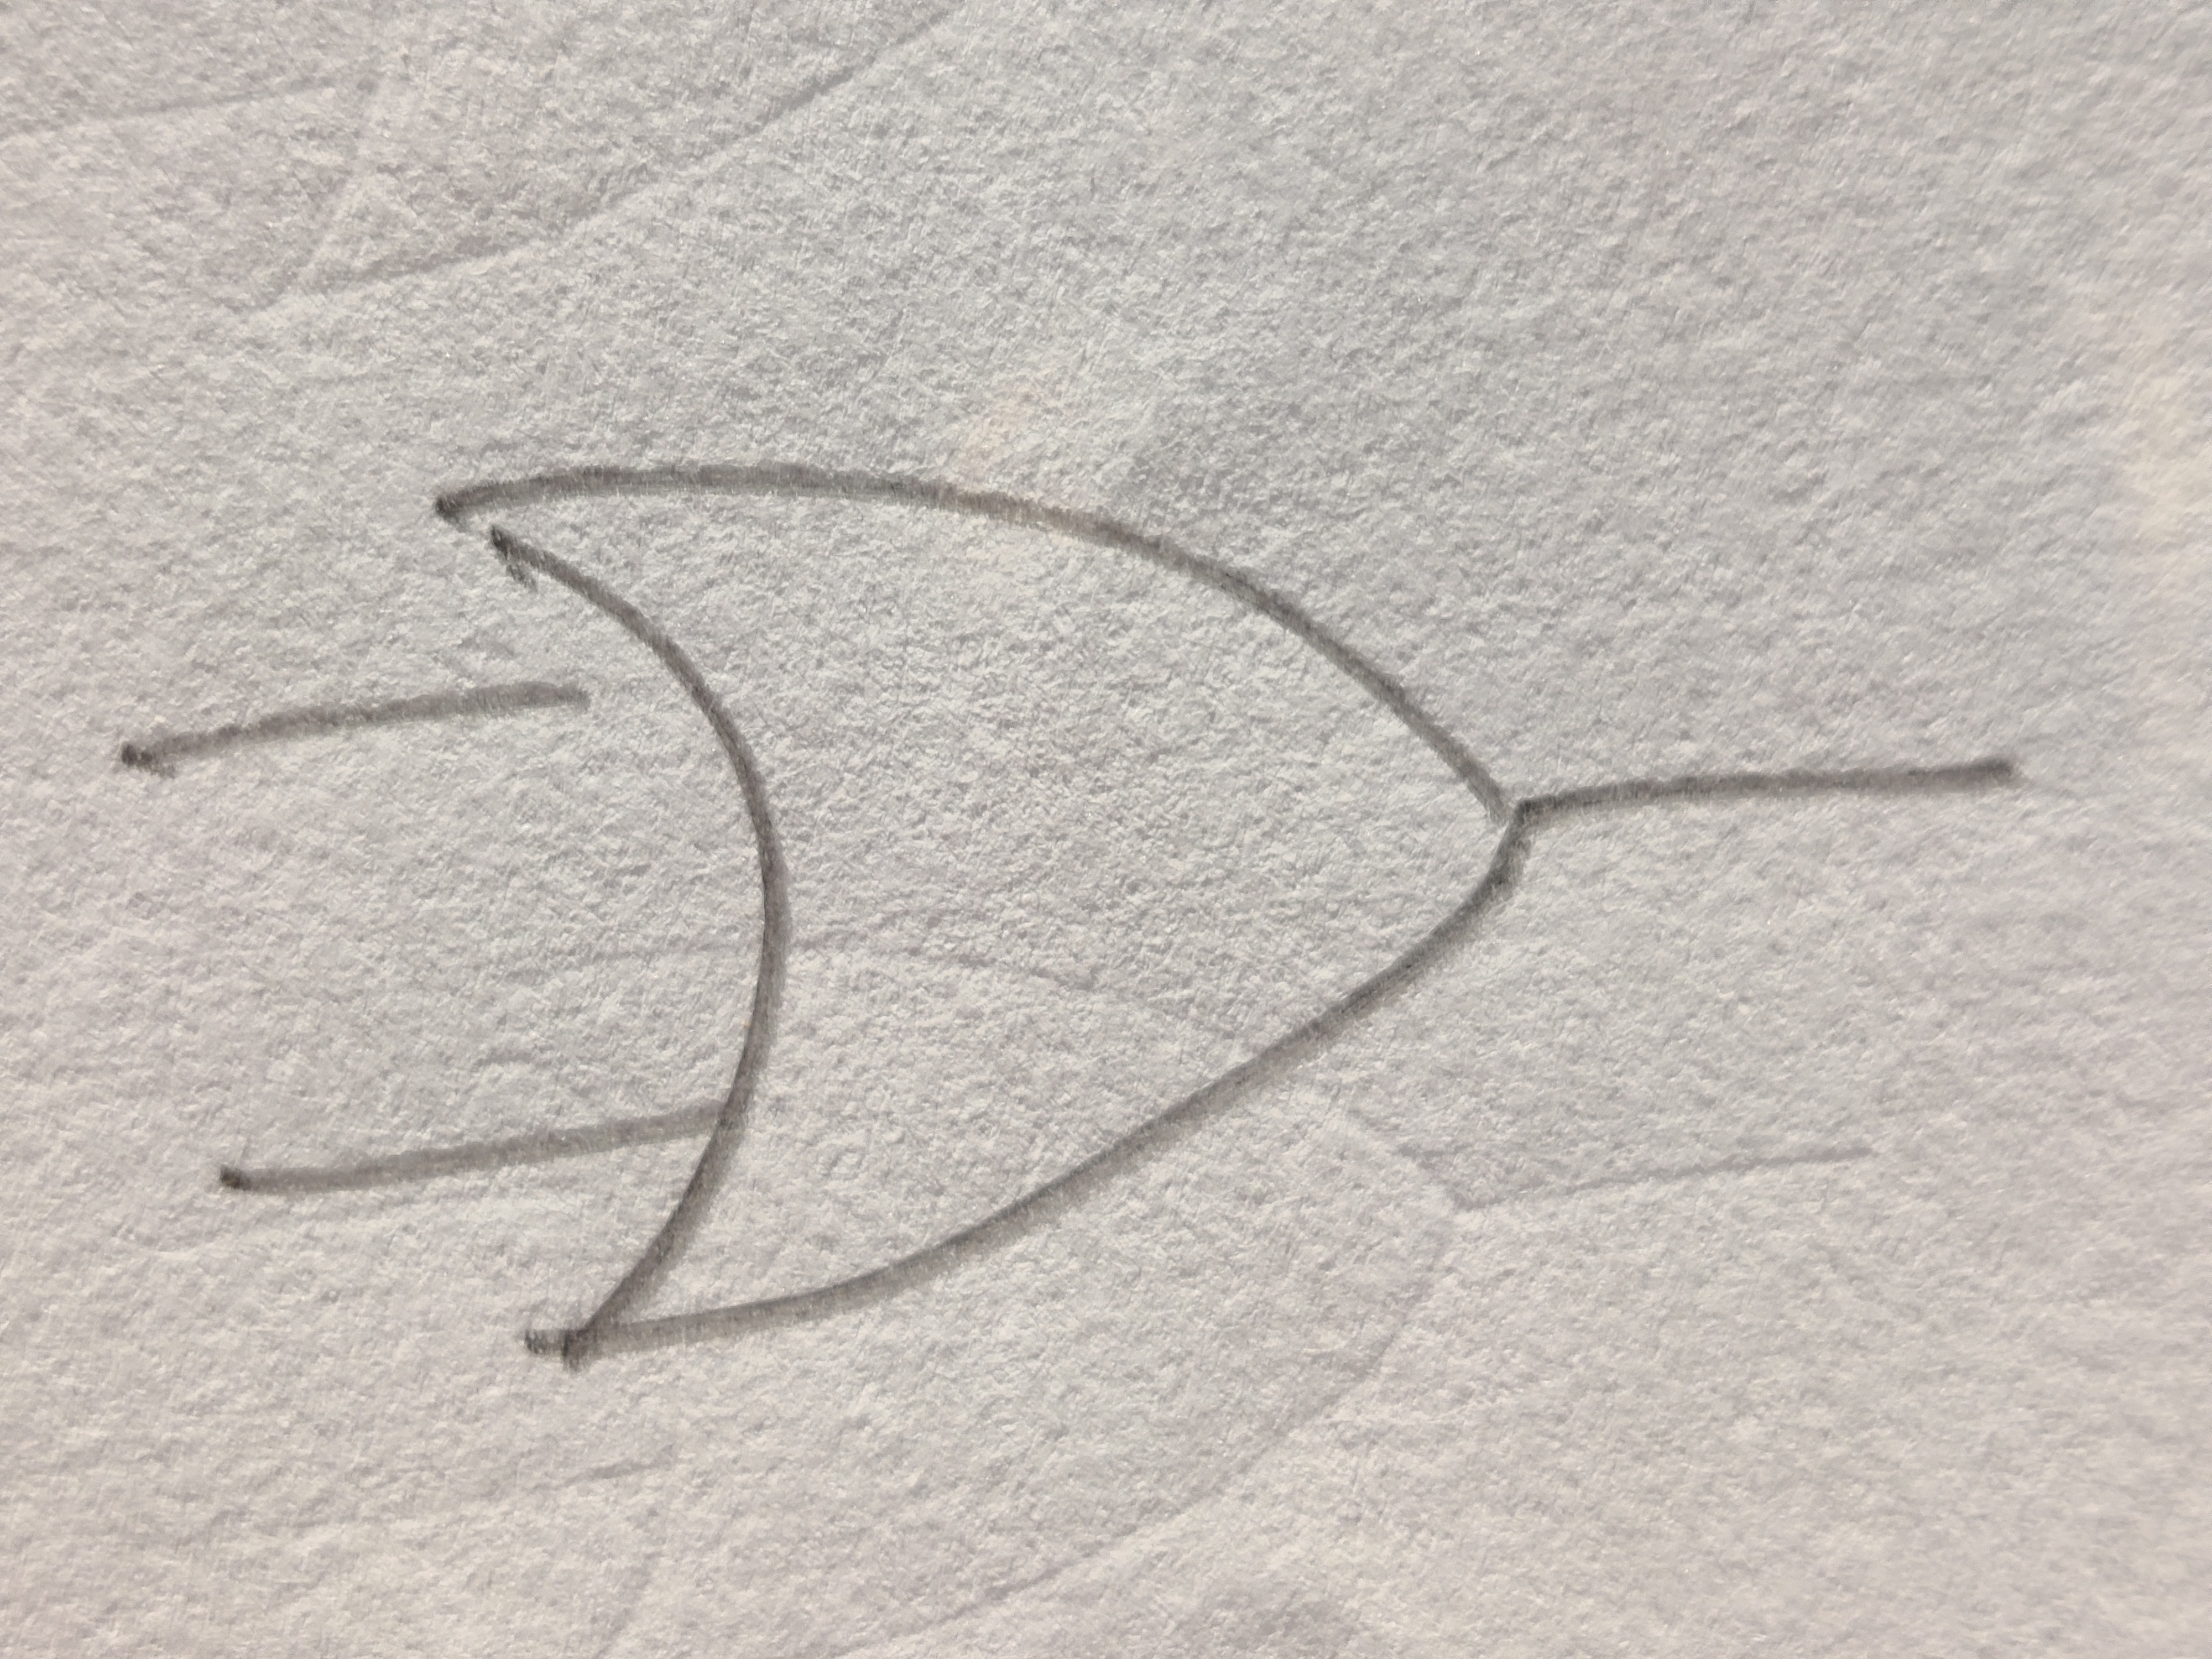or: (437, 464, 1533, 1354)
